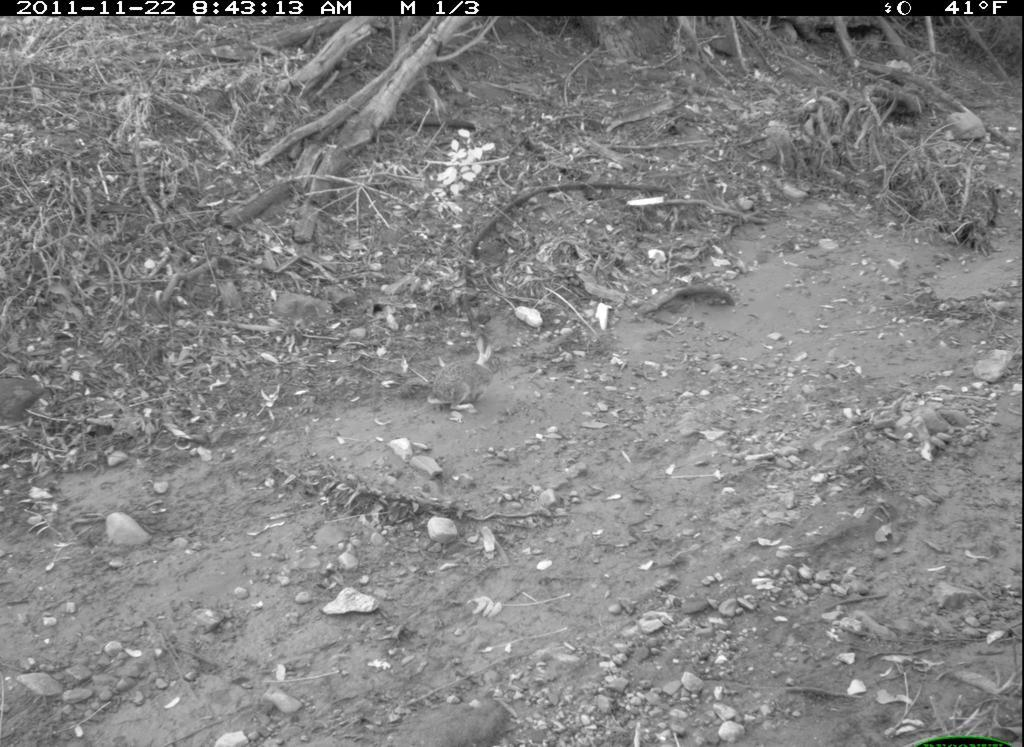rabbit: (427, 333, 502, 418)
